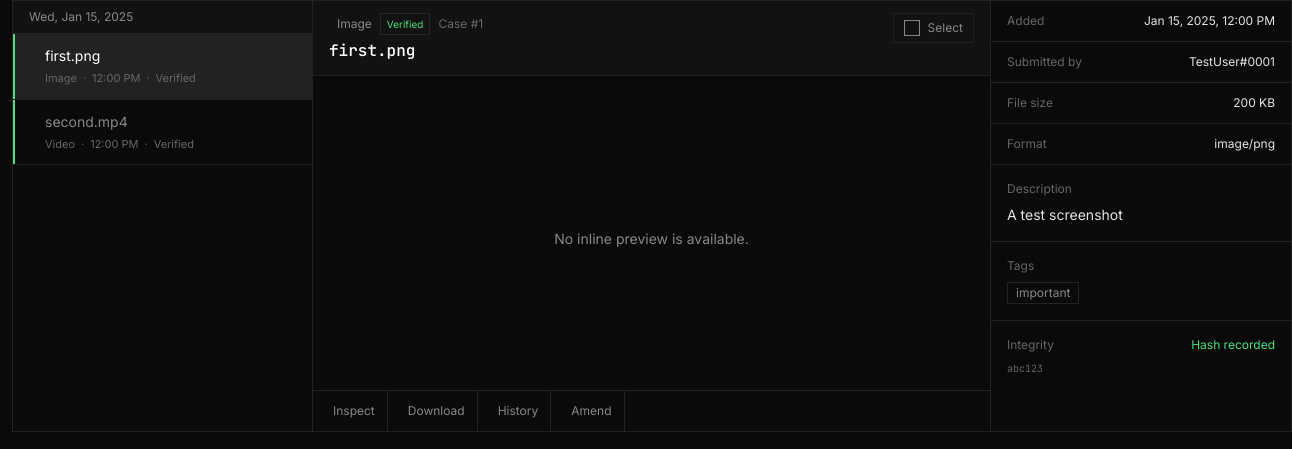
Scenario: EvidenceGallery › changes the focused evidence from the case register
The width and height of the screenshot is (1292, 449).
Expected: the navigation bar named "Evidence register for case 1" is shown, [13, 1, 313, 431]
Click the button "second.mp4 Video · 12:00 PM · Verified". click: point(86, 121)
box: [13, 100, 312, 165]
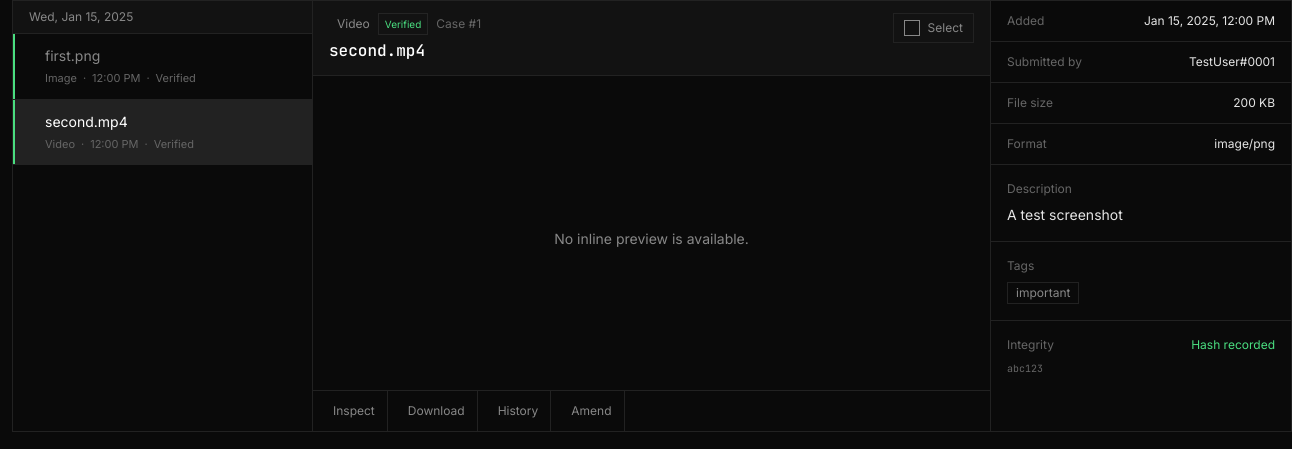
Expected: the text "Video" below "Wed, Jan 15, 2025" is shown, [45, 136, 75, 150]
Expected: the heading "second.mp4" is shown, [329, 40, 425, 61]
